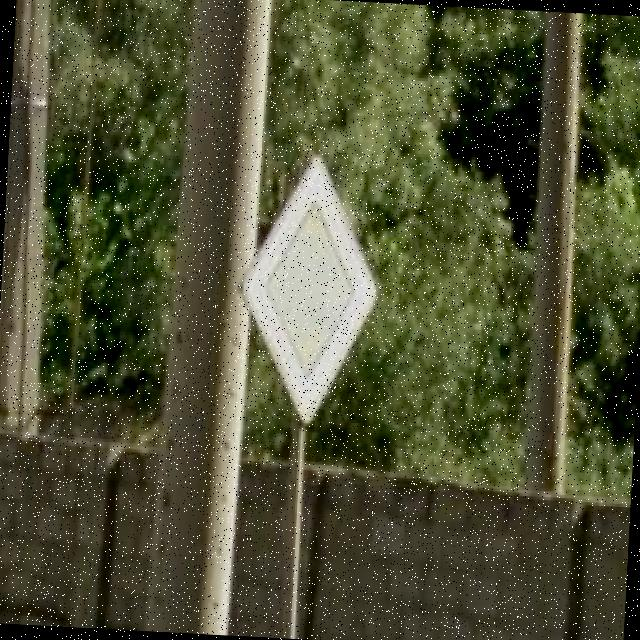Droga z pierwszenstwem: (232, 151, 385, 430)
